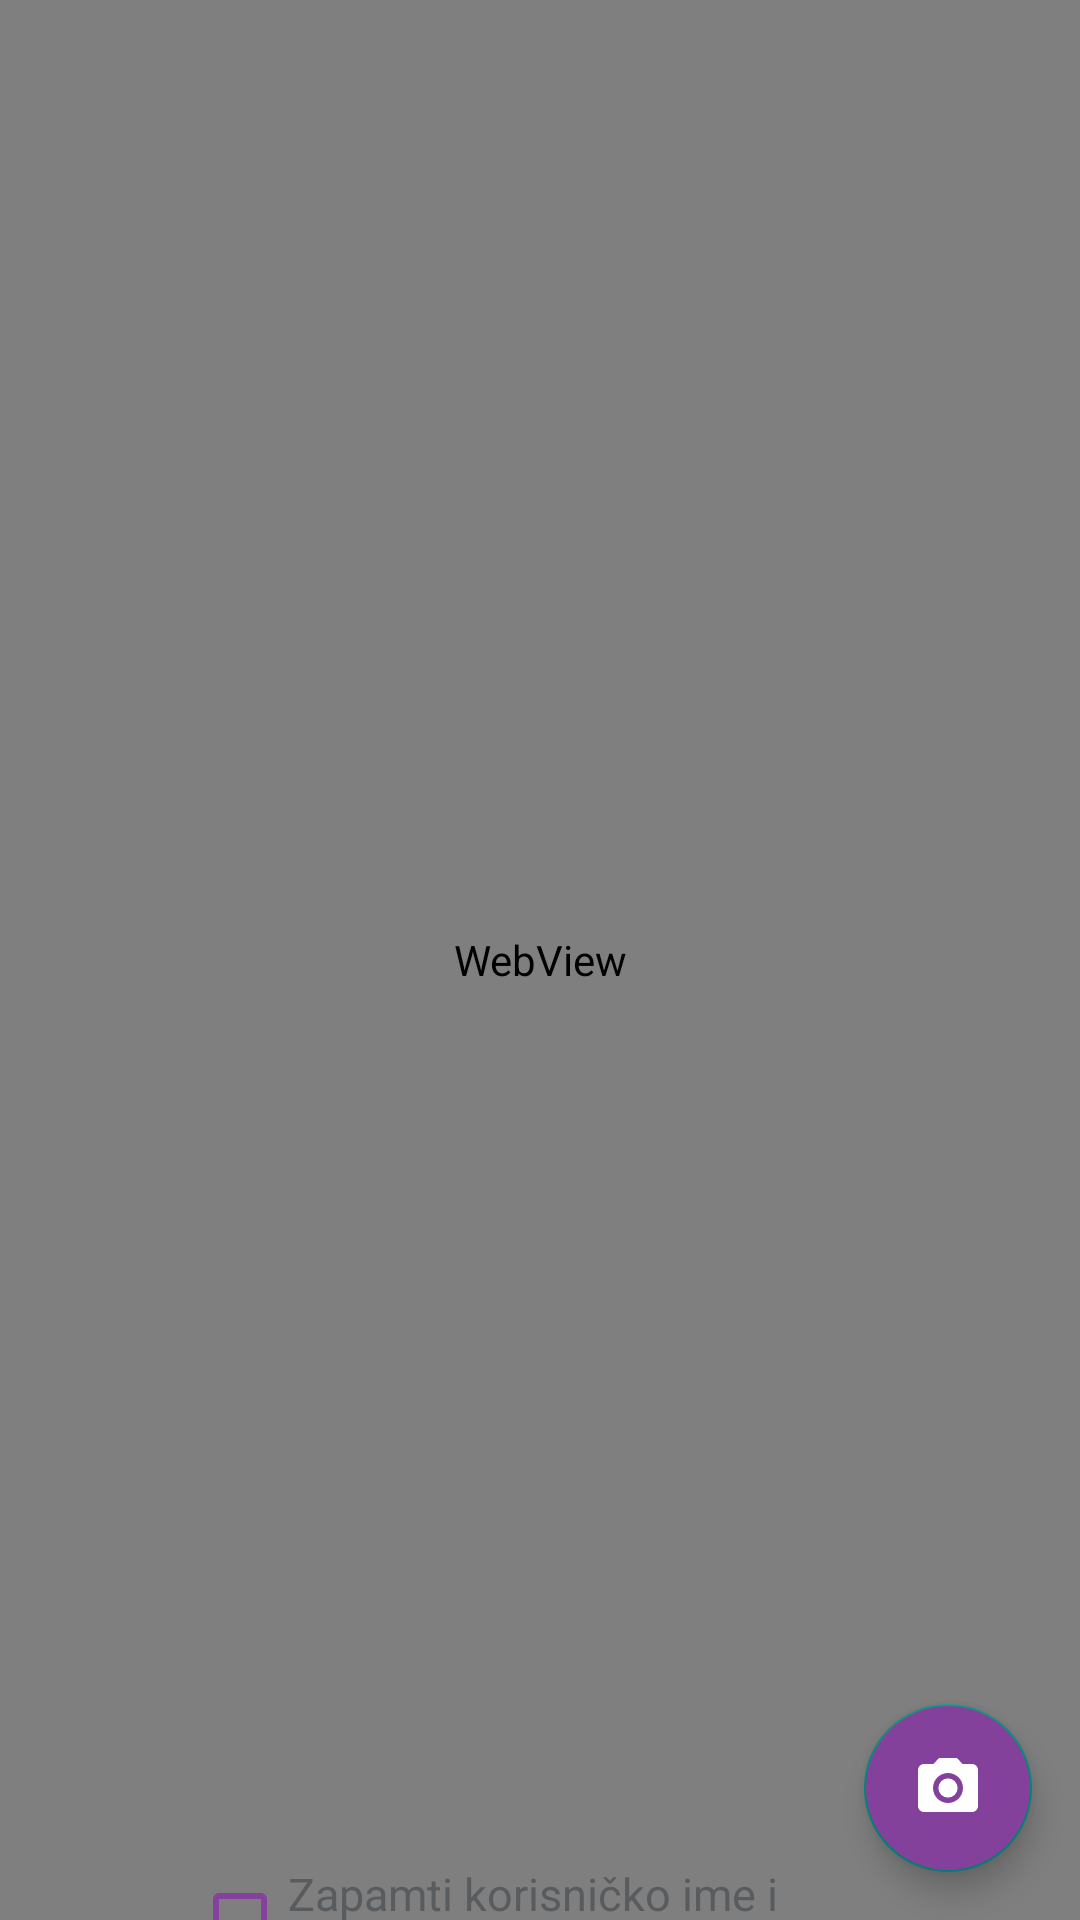

Screen size 1080x1920. Icon name, then its center in pixels as point (x, y):
camera: point (948, 1788)
